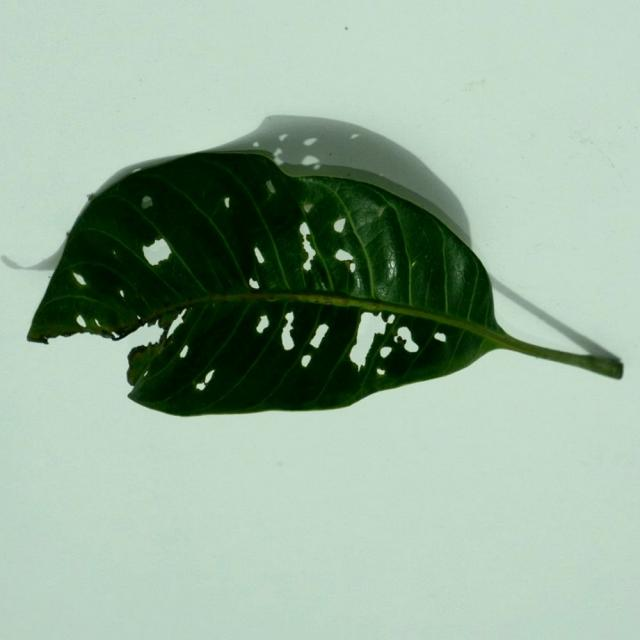Anthracnose: (152, 318, 296, 409), (386, 193, 467, 327), (89, 197, 174, 273), (34, 293, 127, 328), (350, 325, 399, 390), (328, 217, 367, 279), (287, 217, 323, 270), (125, 371, 172, 408), (309, 321, 329, 350), (163, 313, 185, 338), (281, 320, 296, 350), (395, 326, 415, 348), (256, 314, 270, 334), (333, 217, 347, 234), (253, 247, 266, 265), (72, 271, 86, 286), (301, 155, 320, 166), (203, 370, 214, 386), (248, 276, 260, 290), (141, 196, 153, 209), (179, 344, 189, 359), (302, 137, 318, 146), (374, 204, 385, 217), (273, 148, 284, 160), (302, 203, 313, 214), (266, 180, 275, 193), (278, 133, 289, 142), (130, 167, 143, 174), (223, 197, 230, 209), (118, 289, 125, 300), (350, 133, 361, 140), (252, 141, 260, 148), (112, 250, 118, 257), (378, 172, 385, 177)
Mango: (27, 118, 625, 420)
